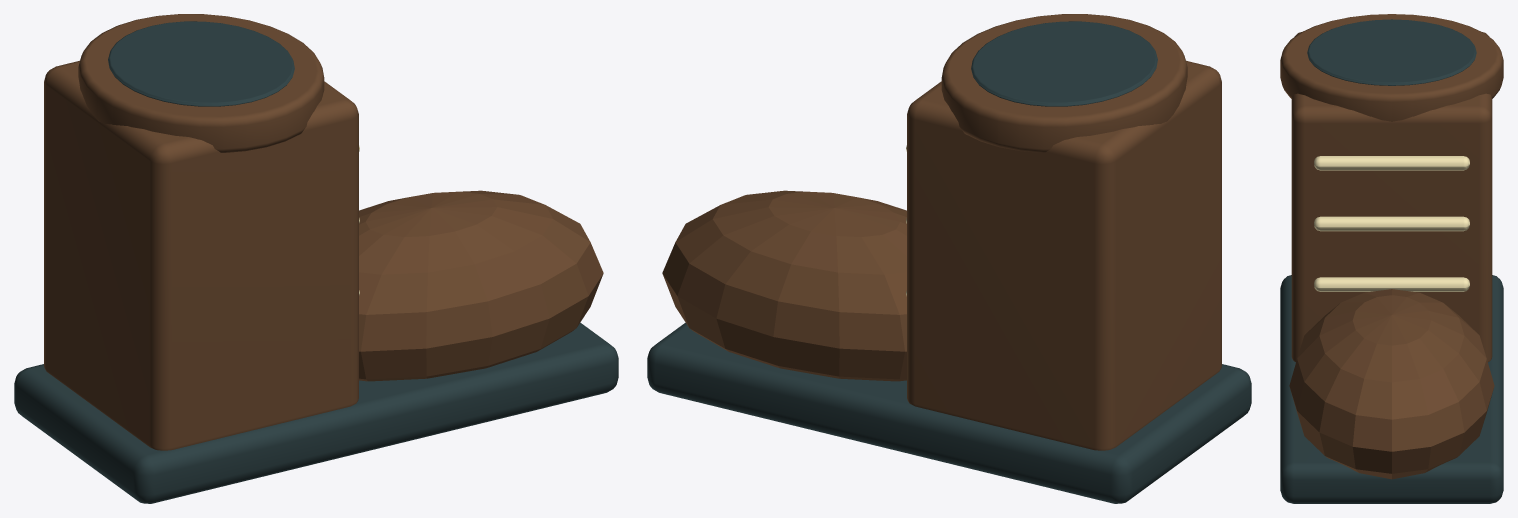
The model's file is old-boot.fbx.
The picture shows the model from 3 angles, left to right: view 1: azimuth 30°, elevation 25°; view 2: azimuth 150°, elevation 25°; view 3: azimuth 270°, elevation 25°; orthographic projection. The views are drawn at different scales.
Parts seen in each view (by area): view 1: old-boot; view 2: old-boot; view 3: old-boot.
Boxes of the visible parts, box(x1,y1,x2,y2) form: old-boot: box(14, 14, 618, 503); old-boot: box(647, 14, 1251, 503); old-boot: box(1280, 14, 1503, 503).
Size of the model in its own units: 2.25 by 1.54 by 1.
